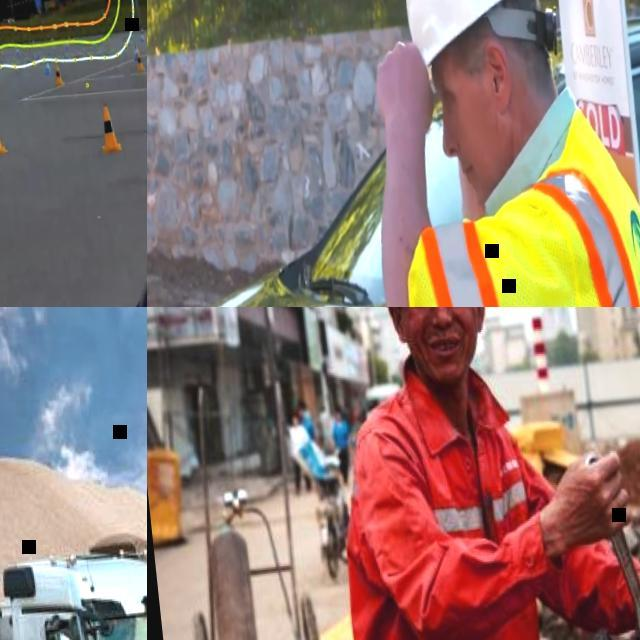Weapon: (288, 0, 640, 313)
objects: (391, 0, 575, 237)
